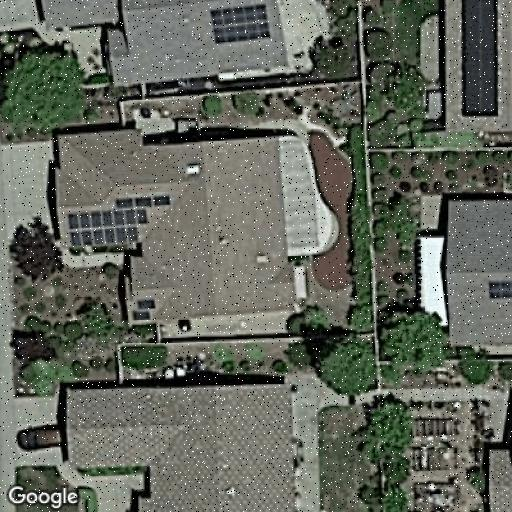solar-panel: (66, 191, 172, 249), (456, 0, 502, 118), (208, 0, 272, 48), (484, 275, 512, 302), (135, 295, 159, 313)
